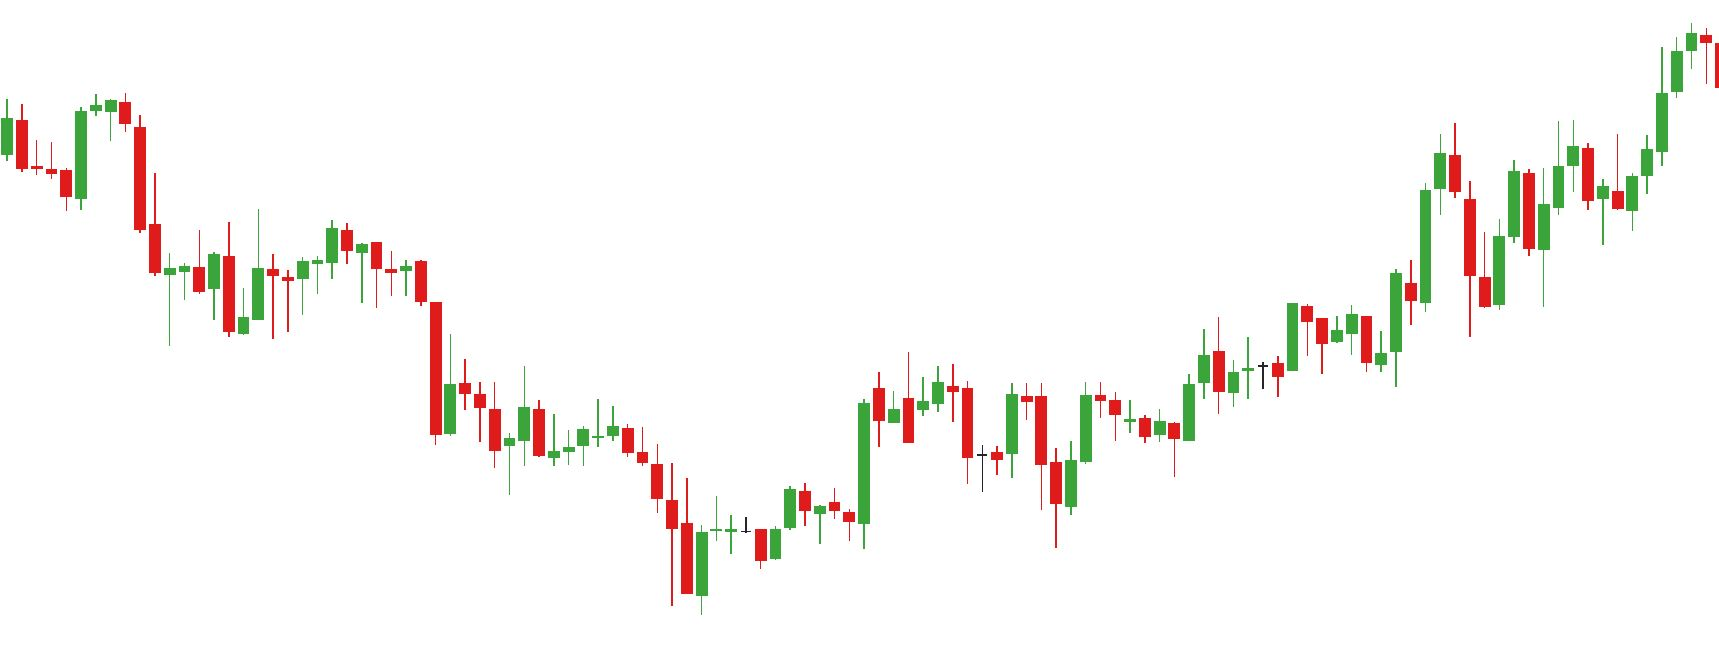buy: (857, 417, 1077, 545), (1405, 231, 1505, 337)
